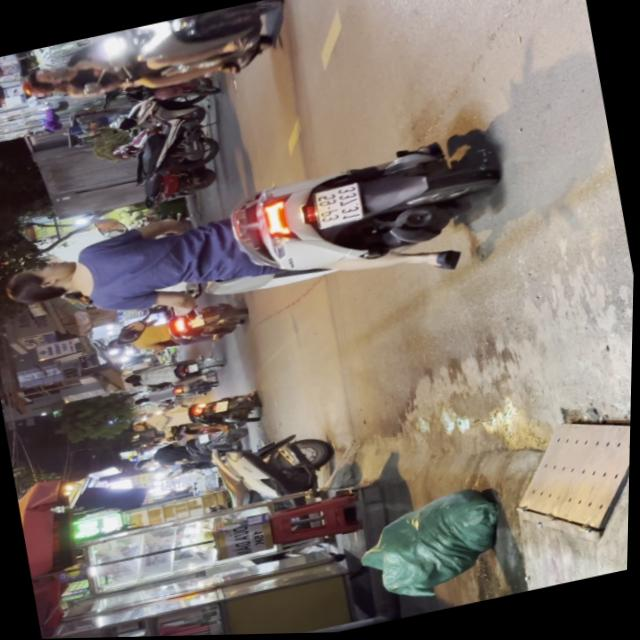licenseplate: (0, 124, 518, 360), (9, 0, 297, 120)
motorcyclist: (3, 255, 84, 309), (26, 56, 82, 92)
nohelmet: (313, 184, 364, 229)
